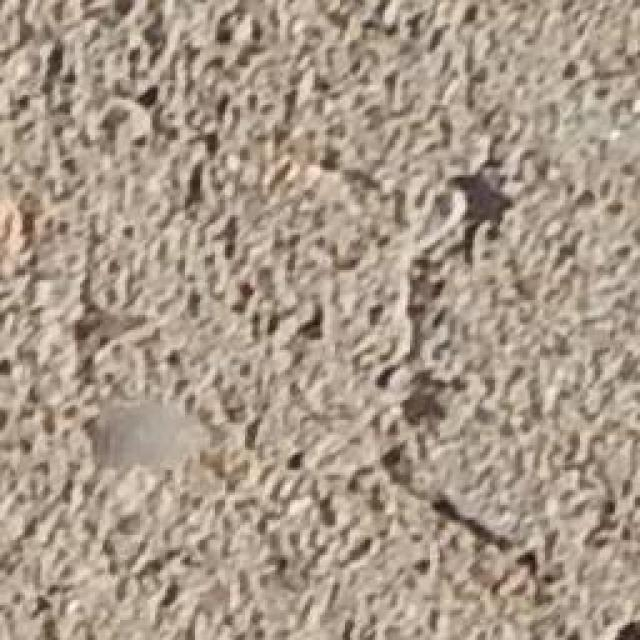concrete-crack: (365, 10, 568, 613)
